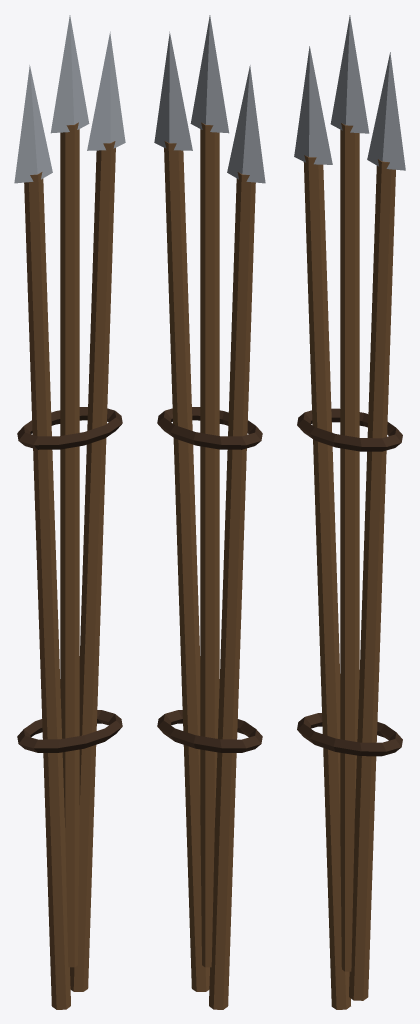
Rendered from Throwing_Spears.gltf.
3 views of the same model, side by side, from view 1: azimuth 30°, elevation 25°; view 2: azimuth 150°, elevation 25°; view 3: azimuth 330°, elevation 25° (orthographic).
Visible parts, largest first — view 1: Cylinder; view 2: Cylinder; view 3: Cylinder.
Boxes of the visible parts, x1,y1,x2,y2 form: Cylinder: [14, 15, 125, 1009]; Cylinder: [154, 15, 265, 1009]; Cylinder: [294, 15, 405, 1009].
Bounding box in the file's own units: 0.1729 × 1.47 × 0.088.
